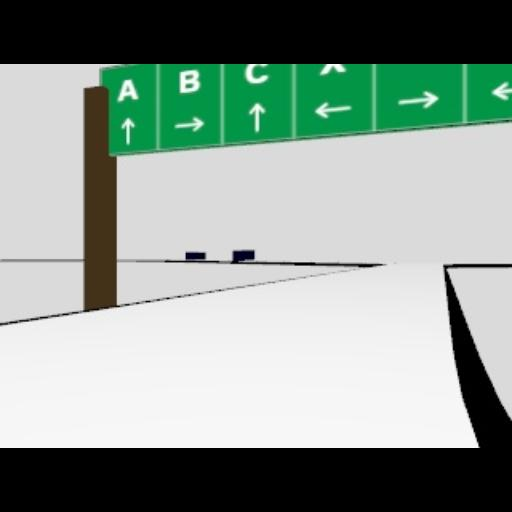A: (116, 79, 138, 101)
B: (178, 67, 200, 93)
C: (243, 64, 269, 84)
Left: (312, 101, 352, 119), (490, 80, 512, 100)
Right: (397, 90, 439, 108), (173, 115, 205, 131)
Straight: (248, 102, 266, 132), (120, 116, 134, 144)
X: (318, 64, 346, 76)
